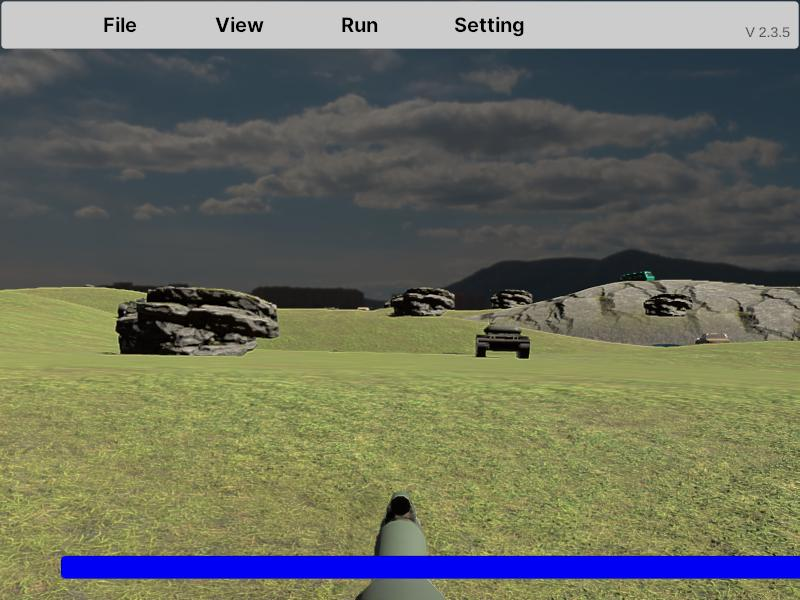Tank: (475, 323, 531, 359)
